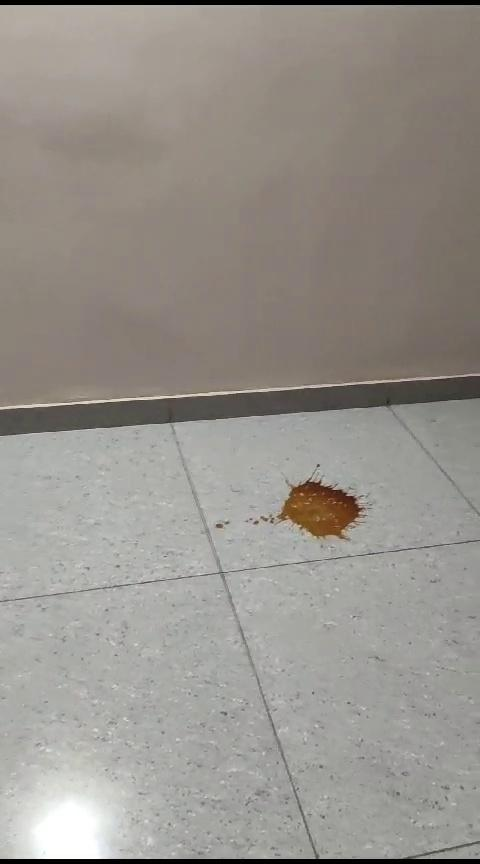dirty_floor: (220, 465, 368, 563)
